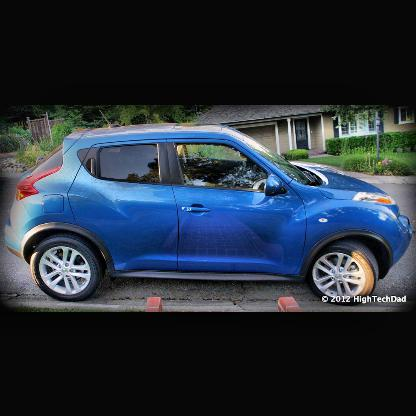Nissan Juke Hatchback 2012: (5, 125, 410, 304)
